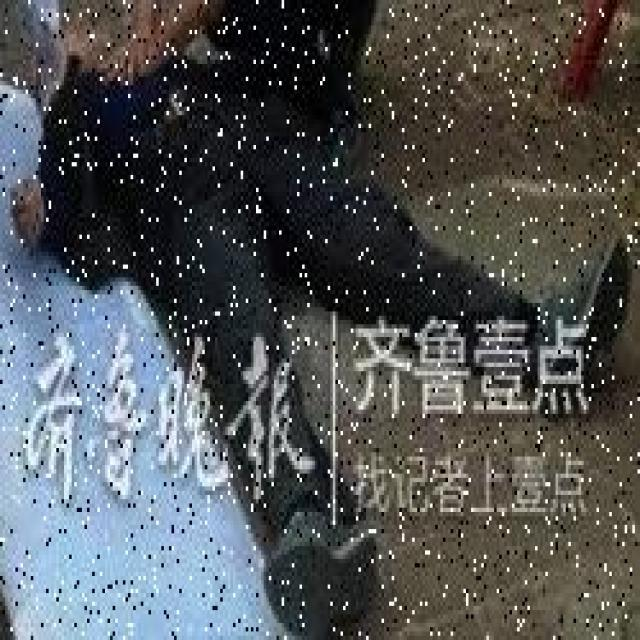fall: (28, 34, 614, 610)
